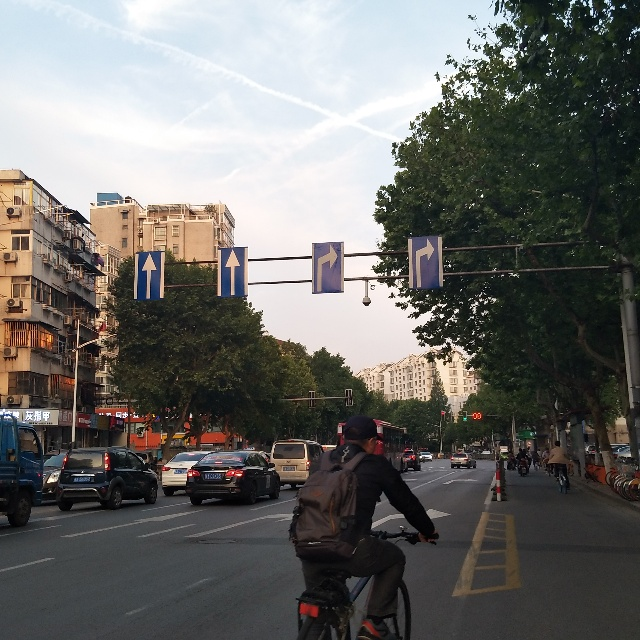right: (312, 244, 342, 293), (412, 239, 443, 286)
straight: (134, 251, 163, 300), (219, 248, 247, 296)
